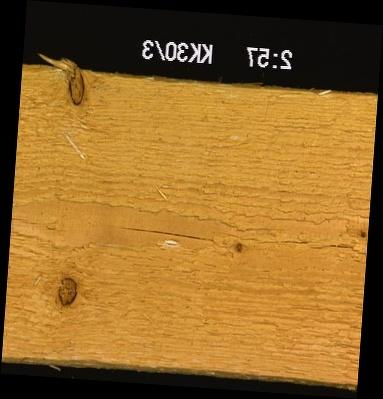dry_knot: (55, 275, 79, 307)
edge_knot: (64, 66, 87, 107)
small_knot: (231, 238, 245, 255), (356, 225, 367, 240)
split: (112, 220, 227, 245), (242, 232, 366, 255)
wave: (1, 347, 313, 375)
